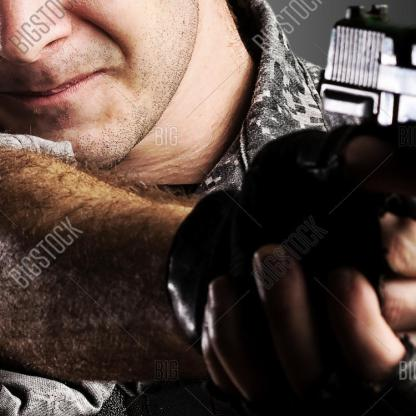gun: (306, 0, 415, 332)
